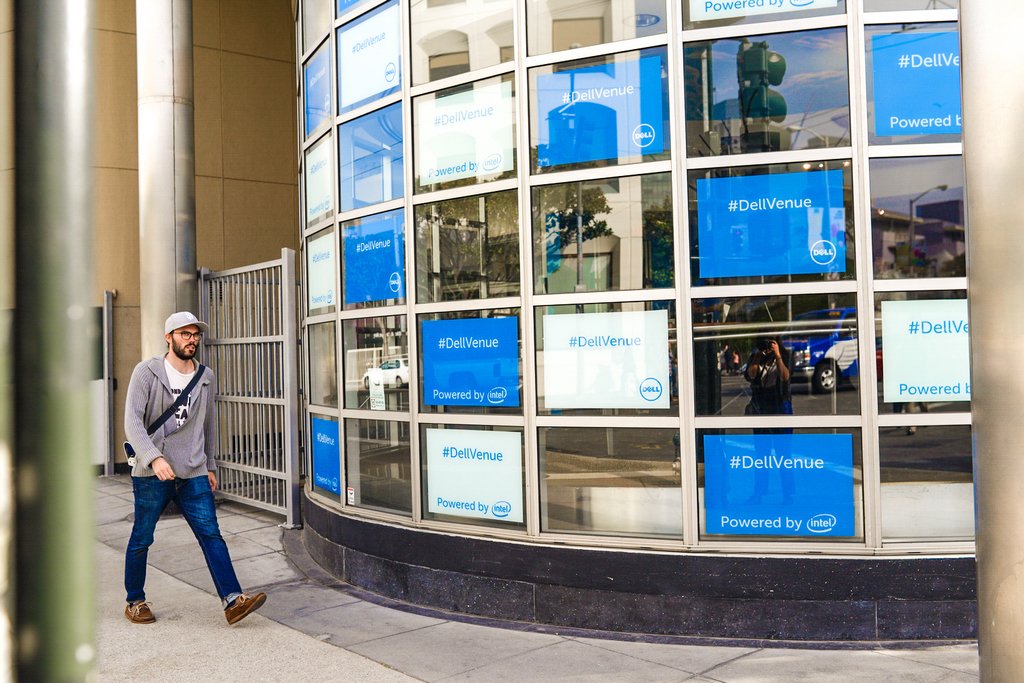Footwear: (225, 592, 267, 626), (122, 595, 154, 624)
